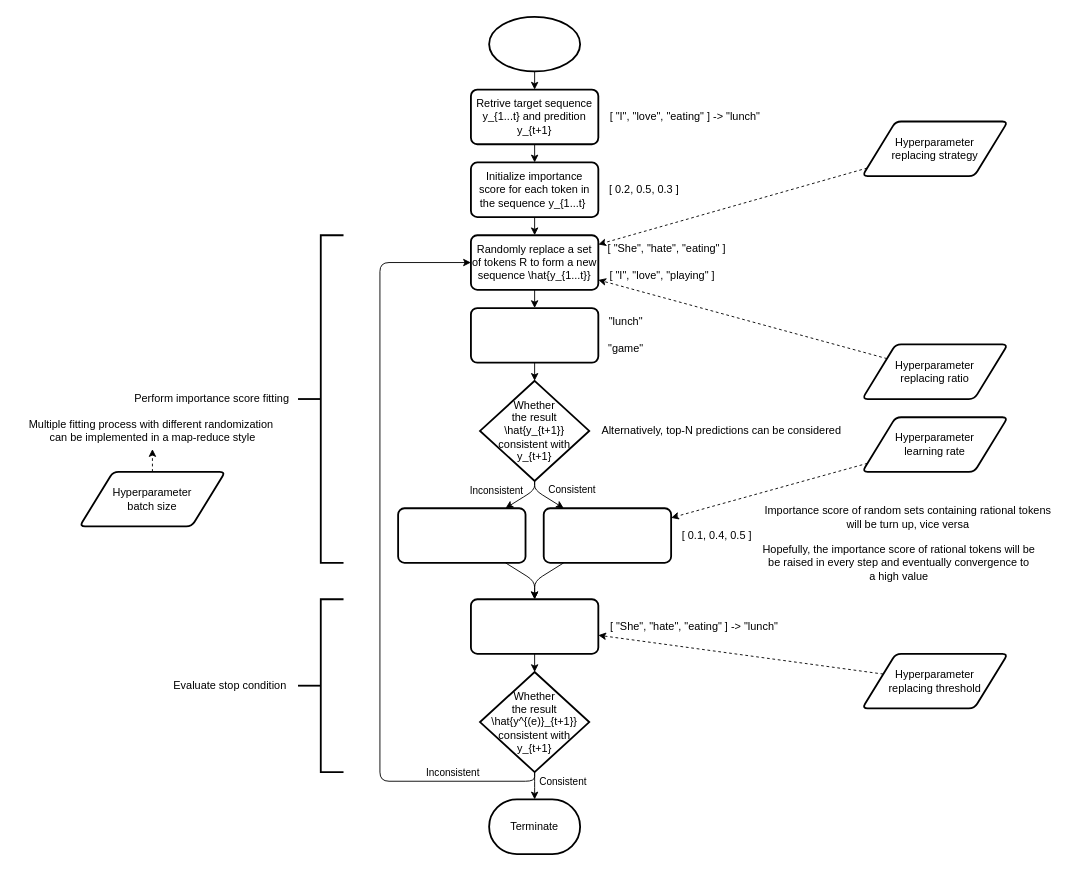
The diagram is 1077 pixels wide and 870 high, and some of its shapes have lost their labels. Here are the shapes that lost their labels. From the top down, the centre of each, then its label:
At point 534,43: "Start".
At point 534,335: "Inference \hat{y_{1...t}} on the replaced sequence \hat{y_{1...t}}".
At point 461,535: "Turn down the importance score of the replaced tokens".
At point 607,535: "Turn up the importance score of the replaced tokens".
At point 534,626: "Replace tokens with low importance score and then inference \hat{y^{(e)}_{t+1}}".
